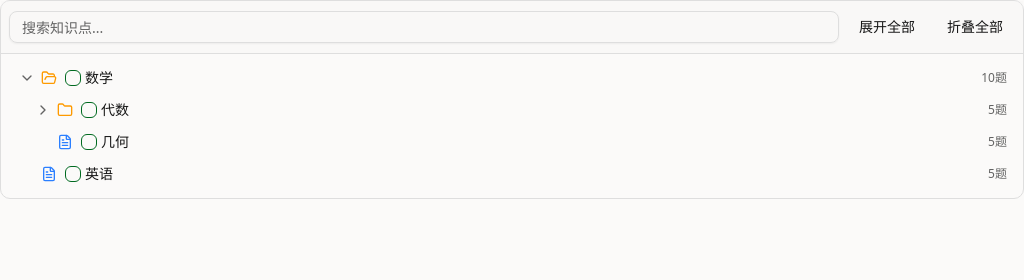
it: KeypointTree Component › toggles node expansion
The width and height of the screenshot is (1024, 280).
Expected: the text "方程" is not shown
Click the button without text next to "代数": (43, 110) [33,100,53,120]
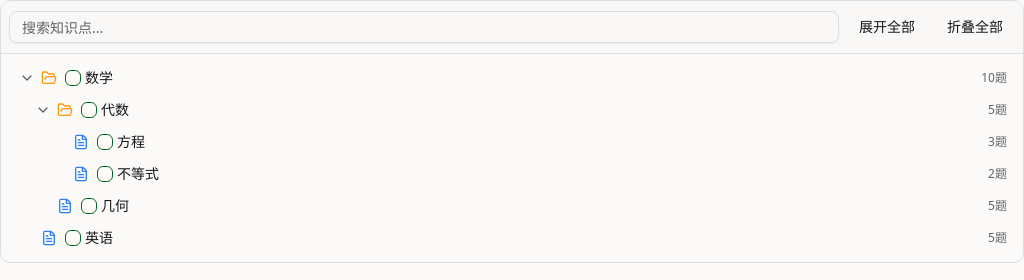
Now the text "方程" is shown, box [117,132,145,151]
